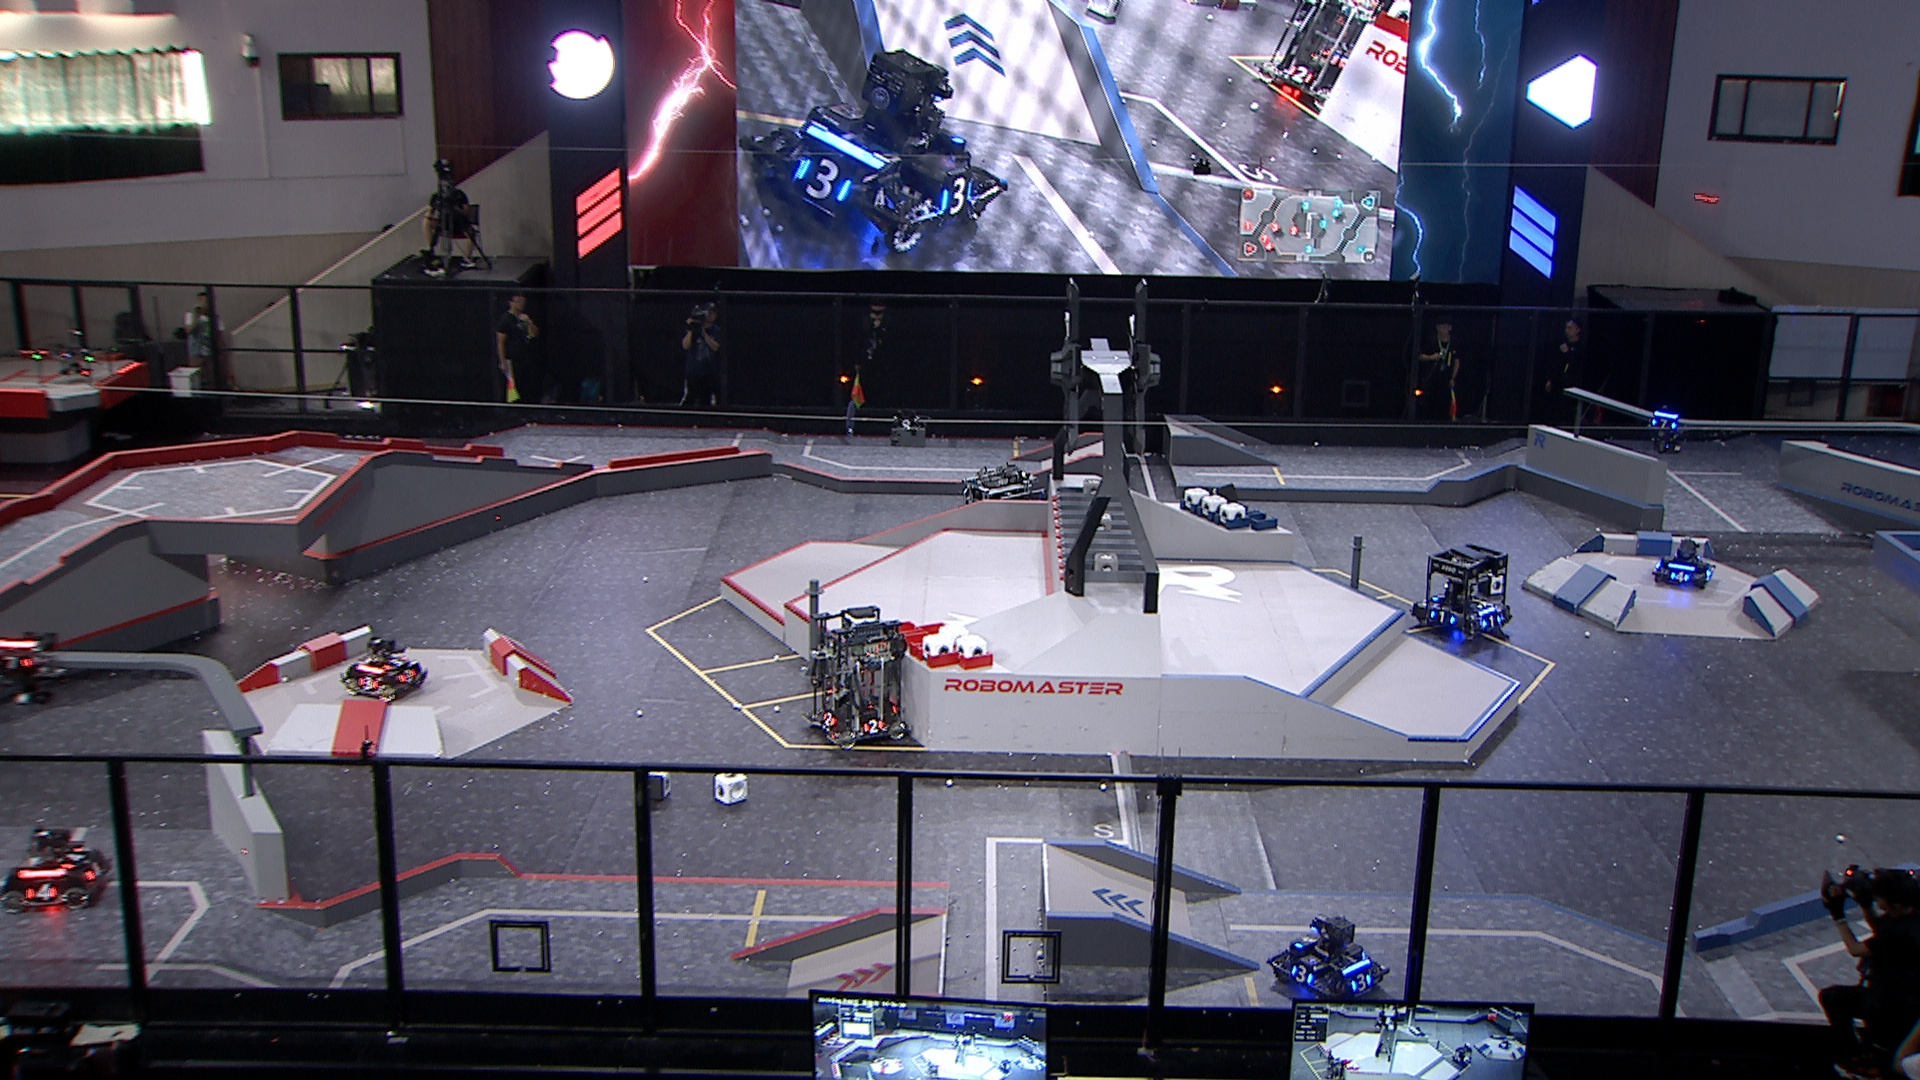armor: (24, 885, 58, 902), (63, 847, 84, 872), (1288, 963, 1313, 982), (87, 858, 107, 882), (1294, 932, 1320, 949), (1352, 971, 1373, 992), (1429, 608, 1455, 622), (862, 717, 884, 735), (384, 655, 407, 670), (1669, 570, 1691, 584), (1480, 612, 1501, 626), (1652, 417, 1676, 429), (1427, 591, 1447, 604), (400, 666, 417, 680), (822, 711, 836, 728), (357, 678, 377, 690)
car: (802, 603, 907, 750), (1265, 913, 1390, 1005), (1414, 541, 1515, 645), (957, 462, 1048, 541), (338, 633, 429, 705), (1647, 538, 1716, 589)
ignore: (738, 46, 1010, 251), (1249, 0, 1371, 109), (1321, 1052, 1352, 1077), (1449, 1043, 1476, 1067), (996, 1058, 1015, 1076), (1498, 1033, 1515, 1054), (926, 1059, 940, 1080)
watcher: (1646, 404, 1695, 456)
